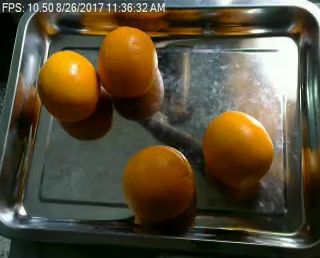Orange: (122, 143, 194, 220), (204, 109, 274, 187), (36, 49, 99, 121), (97, 25, 158, 97)
